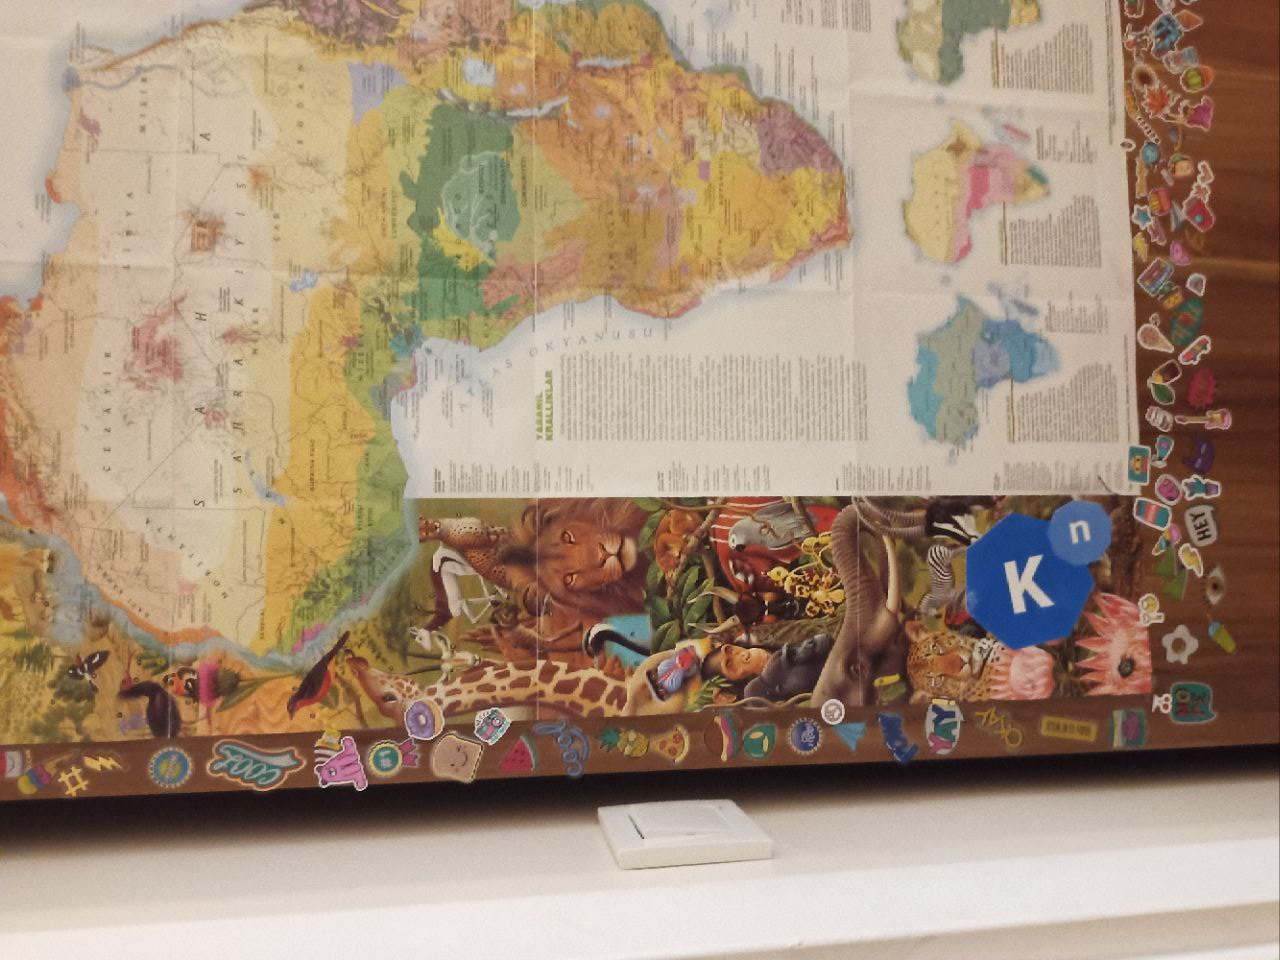knative: (966, 497, 1114, 651)
